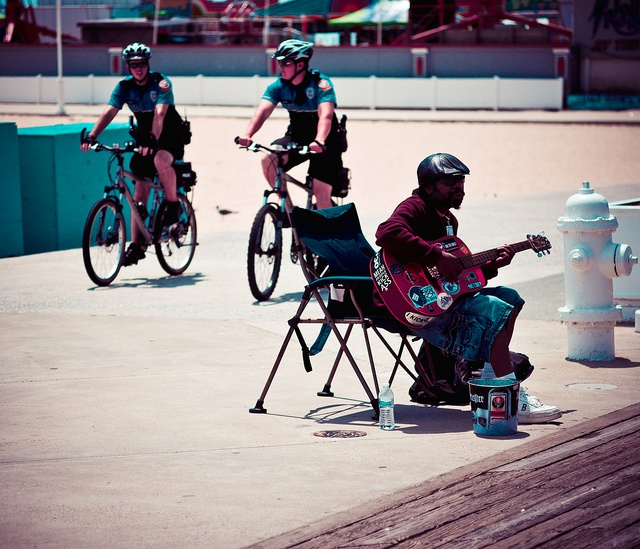non-vehicle: (79, 114, 199, 287), (237, 140, 325, 301)
